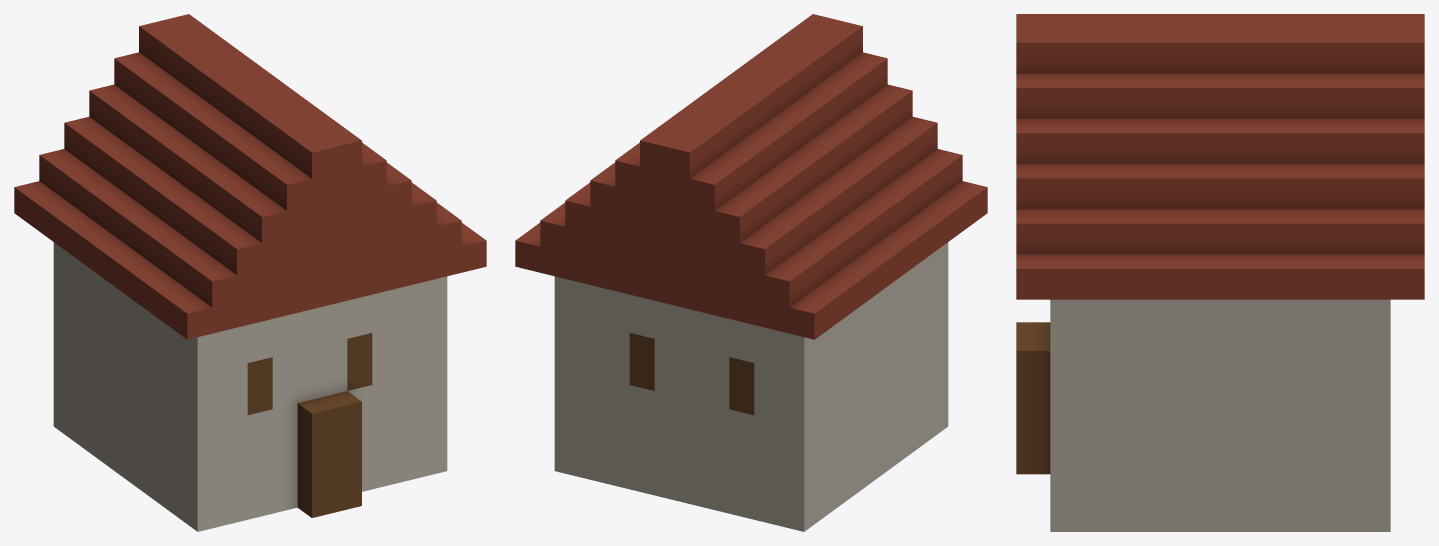
Rendered from c_stone.glb.
3 views of the same model, side by side, from view 1: azimuth 30°, elevation 25°; view 2: azimuth 150°, elevation 25°; view 3: azimuth 270°, elevation 25° (orthographic). The views are drawn at different scales.
Parts seen in each view (by area): view 1: c_stone_body; view 2: c_stone_body; view 3: c_stone_body.
Boxes of the visible parts, <box> form: c_stone_body: <box>14,14,486,531</box>; c_stone_body: <box>515,14,987,531</box>; c_stone_body: <box>1016,14,1424,531</box>.
Size of the model in its own units: 0.75 by 0.875 by 0.75.
Materials: 1 (1 with a texture image).
